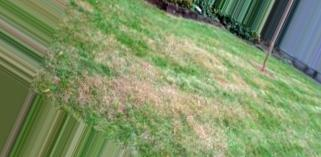patch: (176, 99, 217, 147), (114, 60, 159, 98), (190, 49, 215, 71)
